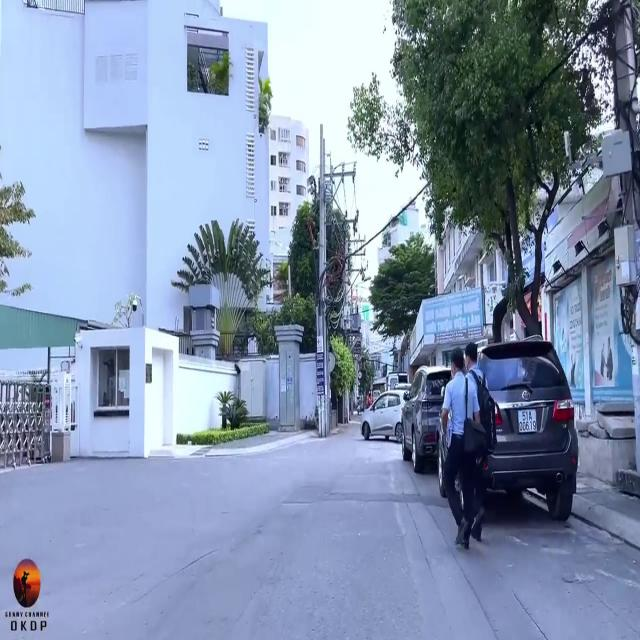bien_trang: (518, 407, 536, 433)
